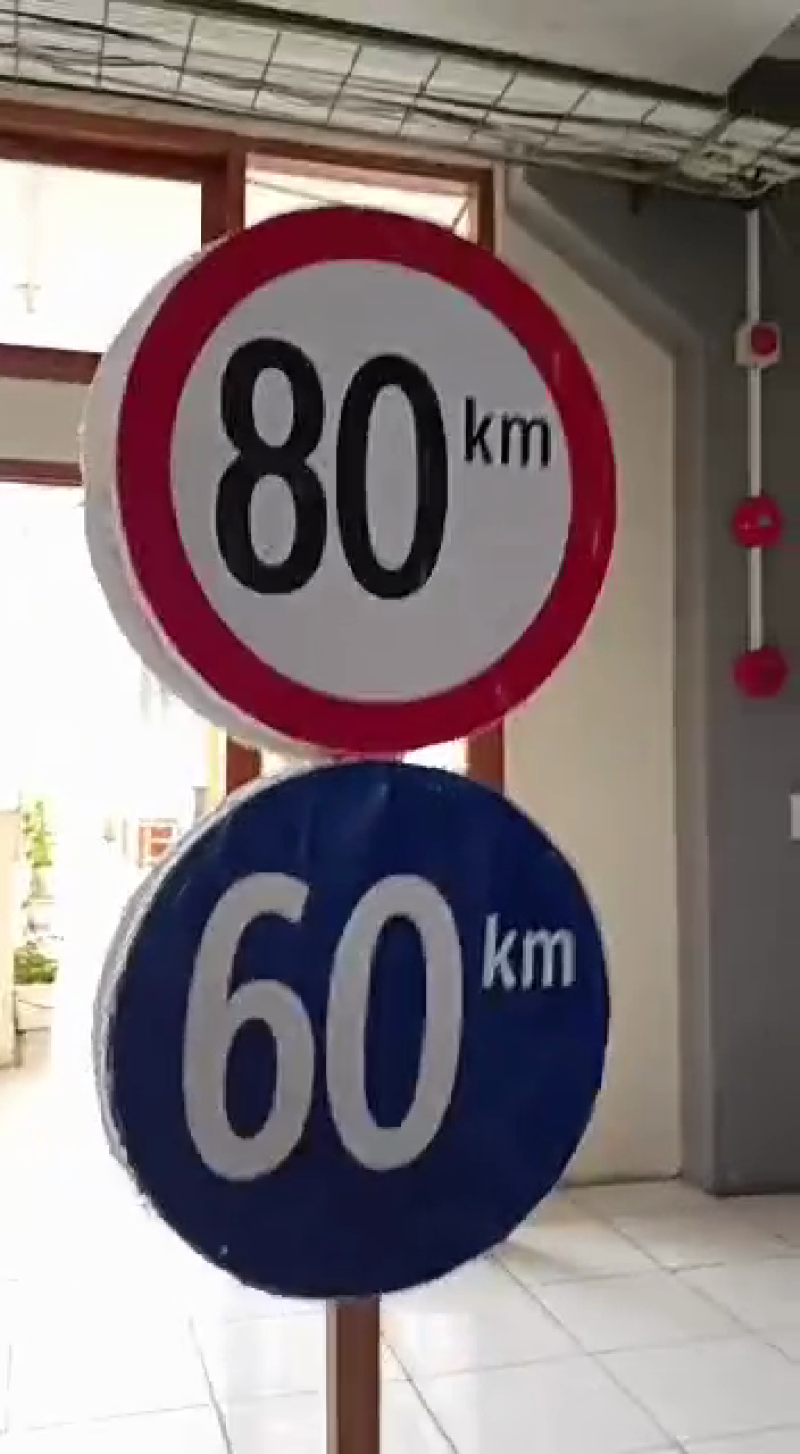batas maksimal 80kmperjam minimal 60kmperjam: (75, 202, 649, 1312)
